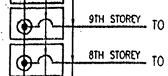Single Phase Tap-Off Unit: (8, 4, 66, 42), (7, 42, 68, 76)
